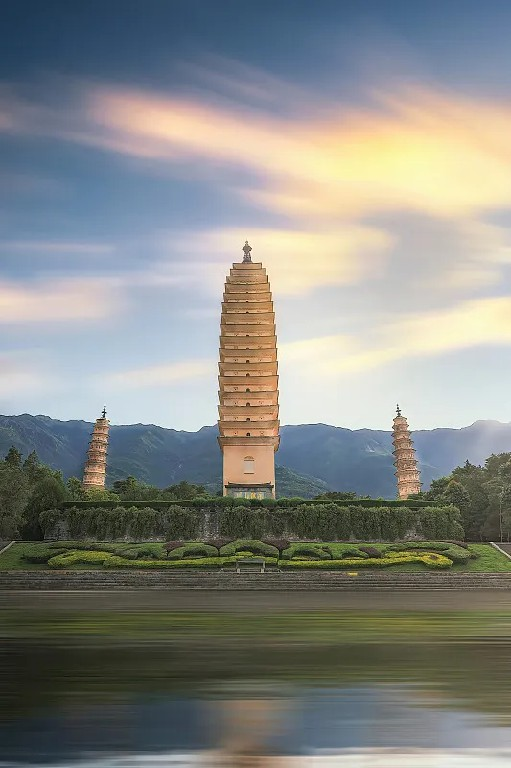ThreePagoda: (217, 239, 280, 501)
